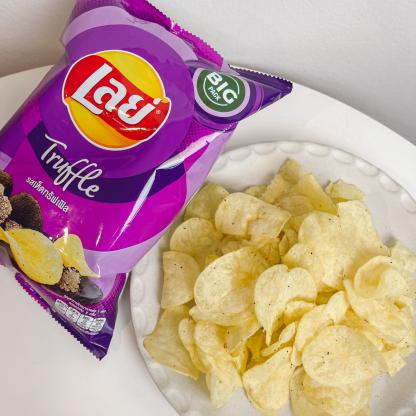potatochip: (0, 0, 294, 362)
